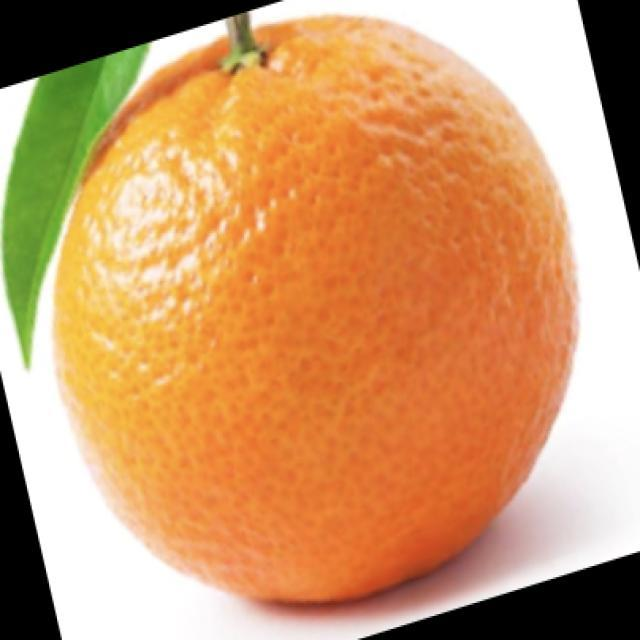Orange: (50, 13, 581, 607)
